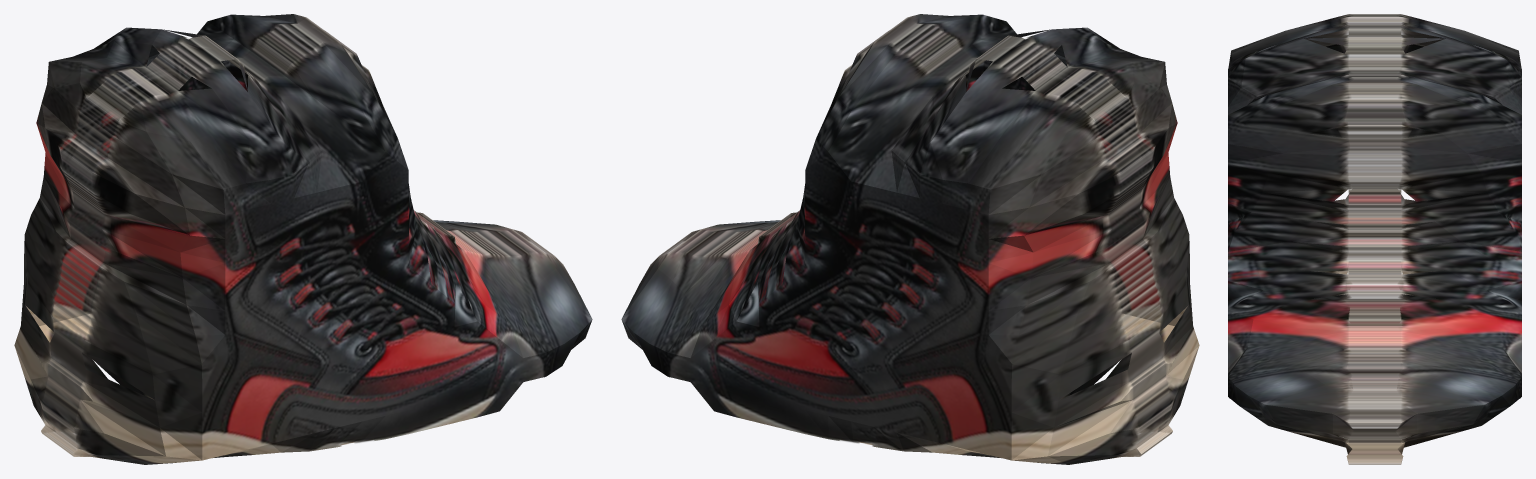
File: kriega-circuit-sport-boot-143.glb
3 views of the same model, side by side, from view 1: azimuth 30°, elevation 25°; view 2: azimuth 150°, elevation 25°; view 3: azimuth 270°, elevation 25° (orthographic). The views are drawn at different scales.
Visible parts, largest first — view 1: world; view 2: world; view 3: world.
Boxes of the visible parts, x1,y1,x2,y2 form: world: (14,14,592,464); world: (621,14,1199,464); world: (1228,14,1521,464).
Bounding box in the file's own units: 1 × 0.7485 × 0.62.
Materials: 1 (1 with a texture image).
